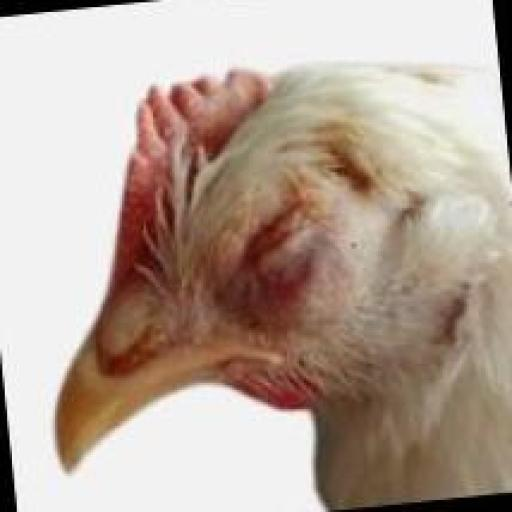disease: (237, 166, 337, 276)
